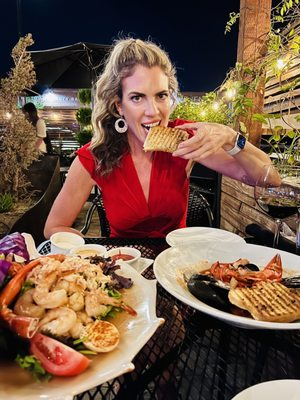pizza: (49, 231, 85, 255)
sushi: (229, 379, 300, 400)
